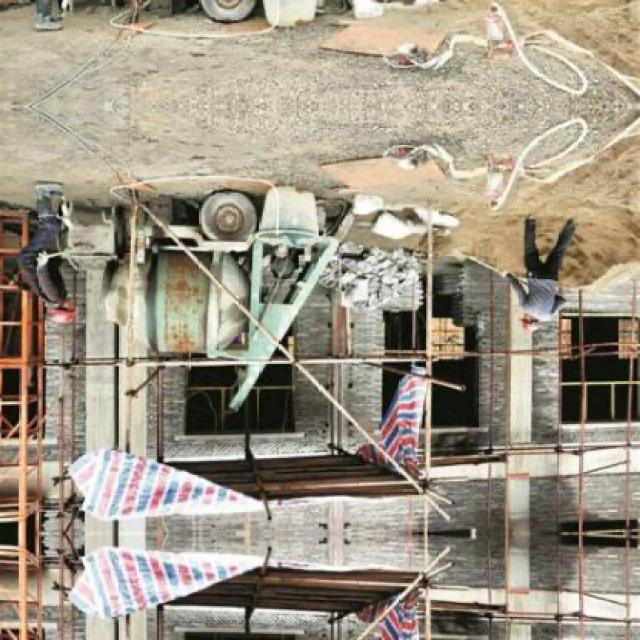con casco: (520, 306, 555, 344)
